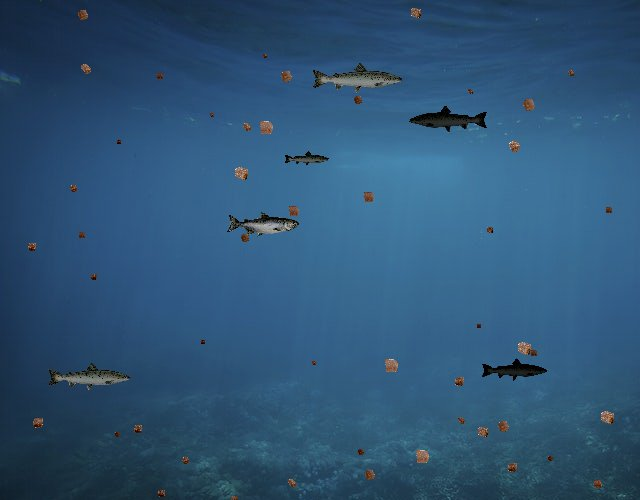Fish: (310, 62, 404, 96), (46, 361, 132, 392), (408, 105, 489, 134), (226, 212, 299, 238), (480, 357, 548, 382), (284, 151, 331, 168)
Pellet: (516, 92, 542, 118), (502, 134, 527, 159), (75, 58, 96, 80), (482, 223, 497, 237), (544, 452, 557, 465), (206, 110, 216, 120)
